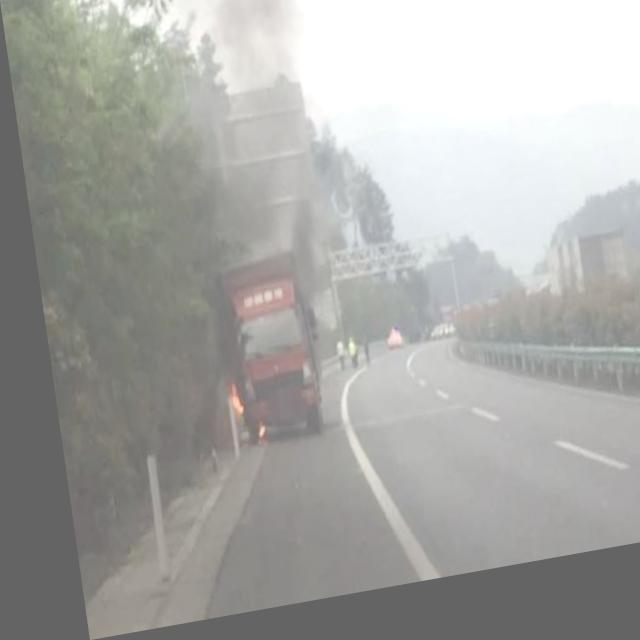Fire: (210, 376, 253, 454)
